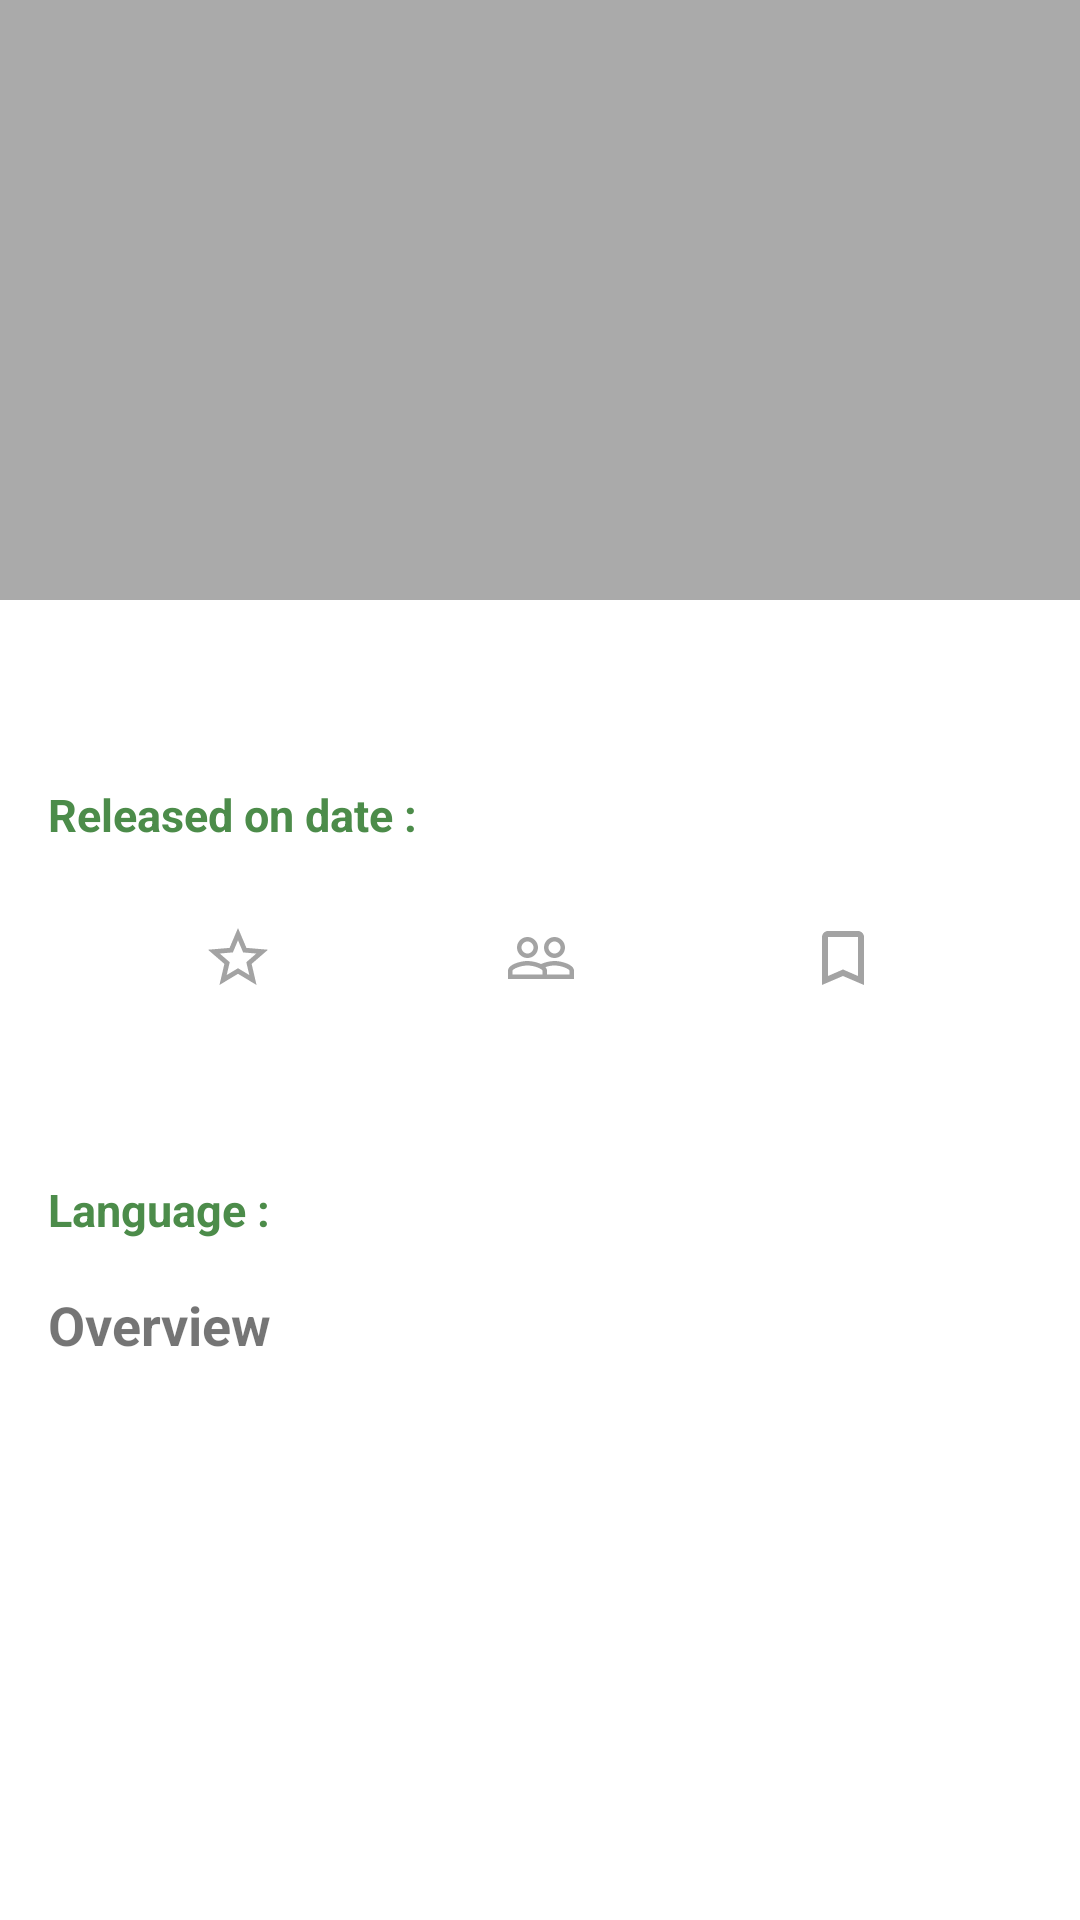

Icon click points for this 1080×1920 phone screenshot, format point (x, y):
bookmark: point (843, 958)
people: point (541, 958)
star: point (238, 957)
